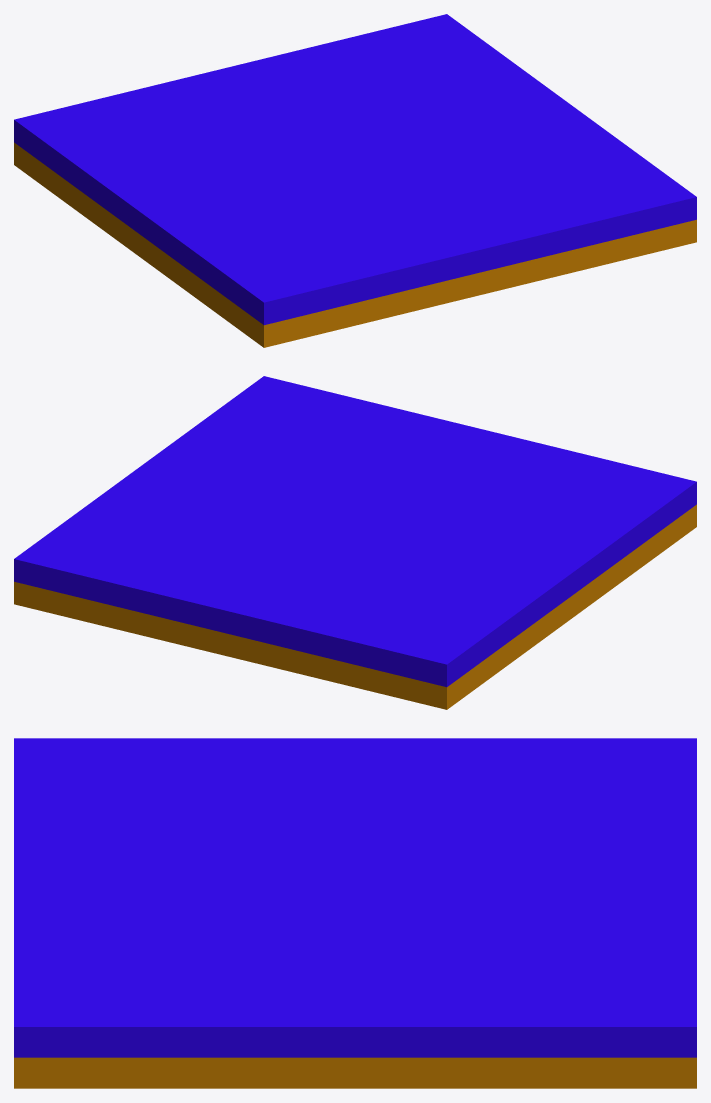
Rendered from ModularFloor_V2_MES.FBX.
3 views of the same model, one above another, from view 1: azimuth 30°, elevation 25°; view 2: azimuth 150°, elevation 25°; view 3: azimuth 270°, elevation 25° (orthographic). The views are drawn at different scales.
Parts seen in each view (by area): view 1: ModularFloor; view 2: ModularFloor; view 3: ModularFloor.
Part boxes in pixels (x1,y1,x2,y2): ModularFloor: [14, 14, 696, 347]; ModularFloor: [14, 376, 696, 709]; ModularFloor: [14, 738, 696, 1088].
Size of the model in its own units: 100 by 10 by 100.
